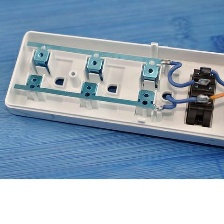three_eye_plug: (1, 26, 223, 152)
